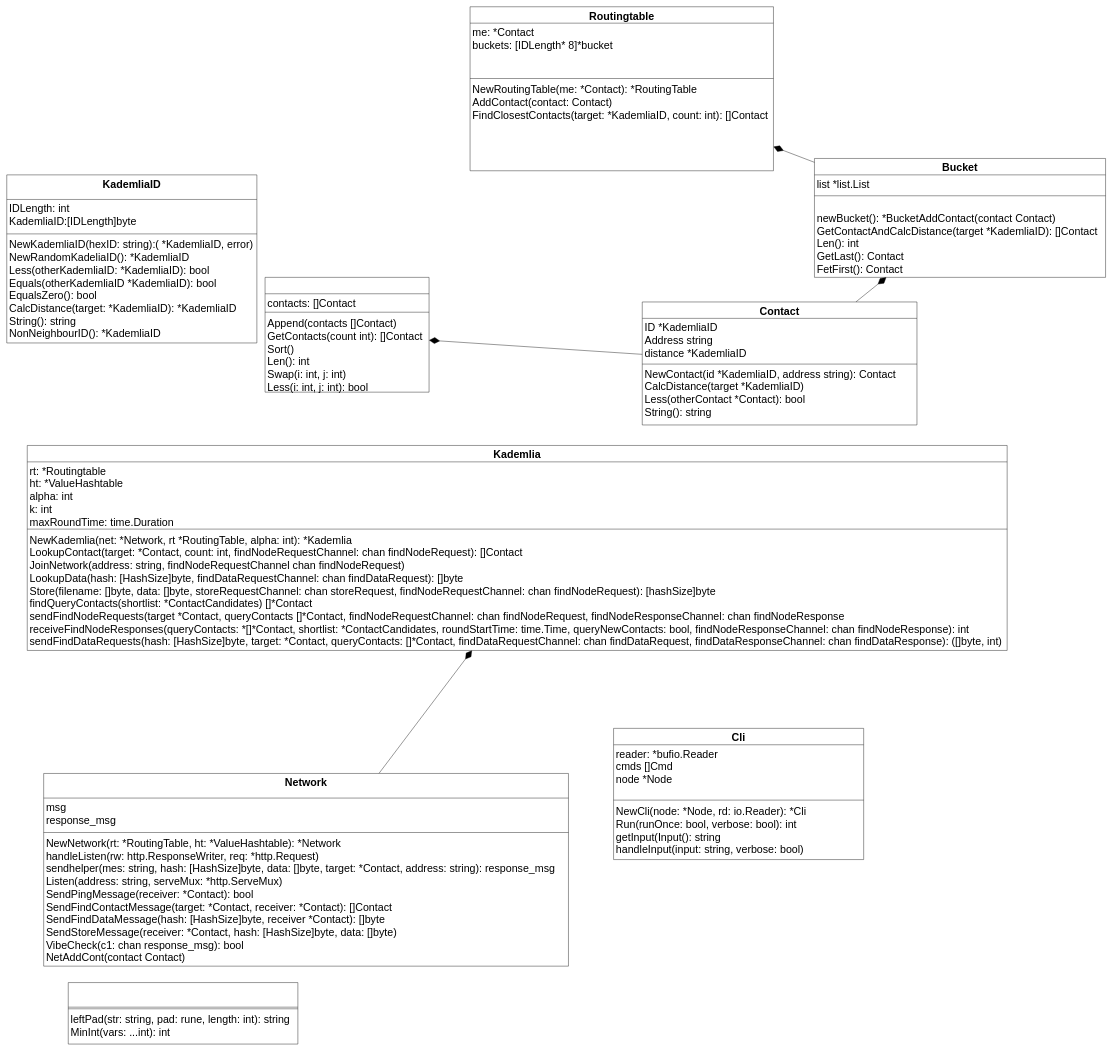
Image size: 1112x1051. Some labels were removed from this diagram. The box of each missing label's shape, as (x1, y1, x2, y2) in pixels:
ContactCandidate: (265, 277, 429, 392)
utility: (68, 982, 298, 1044)
